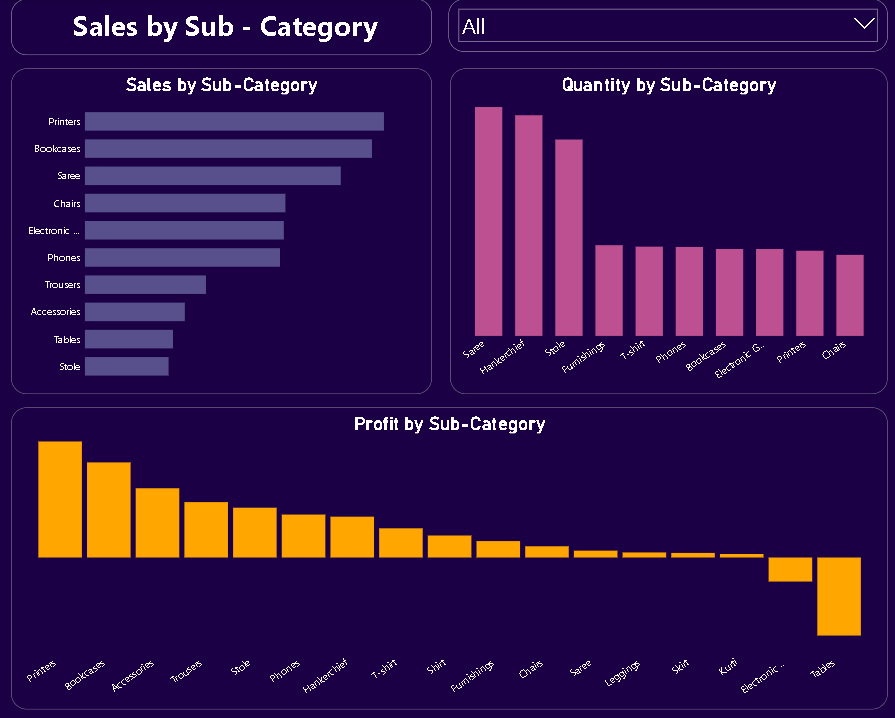

Layout of this report page (visuals, bound fields, positions):
{"tool":"powerbi","page":{"name":"Sub-Category","canvas":[1750,1400],"ordinal":1},"visuals":[{"type":"columnChart","title":" Quantity by Sub-Category","fields":{"Category":["Order Details.Sub-Category"],"Y":["Sum(Order Details.Quantity)"]},"box":[880.1,134.6,847.3,630.5],"z":0},{"type":"columnChart","title":" Profit by Sub-Category","fields":{"Category":["Order Details.Sub-Category"],"Y":["Sum(Order Details.Profit)"]},"box":[29.6,791.5,1697.9,584.6],"z":1000},{"type":"barChart","title":"Sales by Sub-Category","fields":{"Category":["Order Details.Sub-Category"],"Y":["Sum(Order Details.Sales)"]},"box":[29.6,134.6,814.5,630.5],"z":2000},{"type":"textbox","box":[29.6,0,814.5,108.4],"z":3000},{"type":"slicer","title":"State","fields":{"Values":["List of Orders.State"]},"box":[876.9,0,850.6,101.8],"z":4000}]}

Visuals, with their boxes in screenshot pixels (x1, y1, x2, y2), scaled from the page's 1750x1400 canvas onto the 895x718 screenshot:
" Quantity by Sub-Category" columnChart: [left=450, top=69, right=883, bottom=392]
" Profit by Sub-Category" columnChart: [left=15, top=406, right=883, bottom=706]
"Sales by Sub-Category" barChart: [left=15, top=69, right=432, bottom=392]
textbox: [left=15, top=0, right=432, bottom=56]
"State" slicer: [left=448, top=0, right=883, bottom=52]
